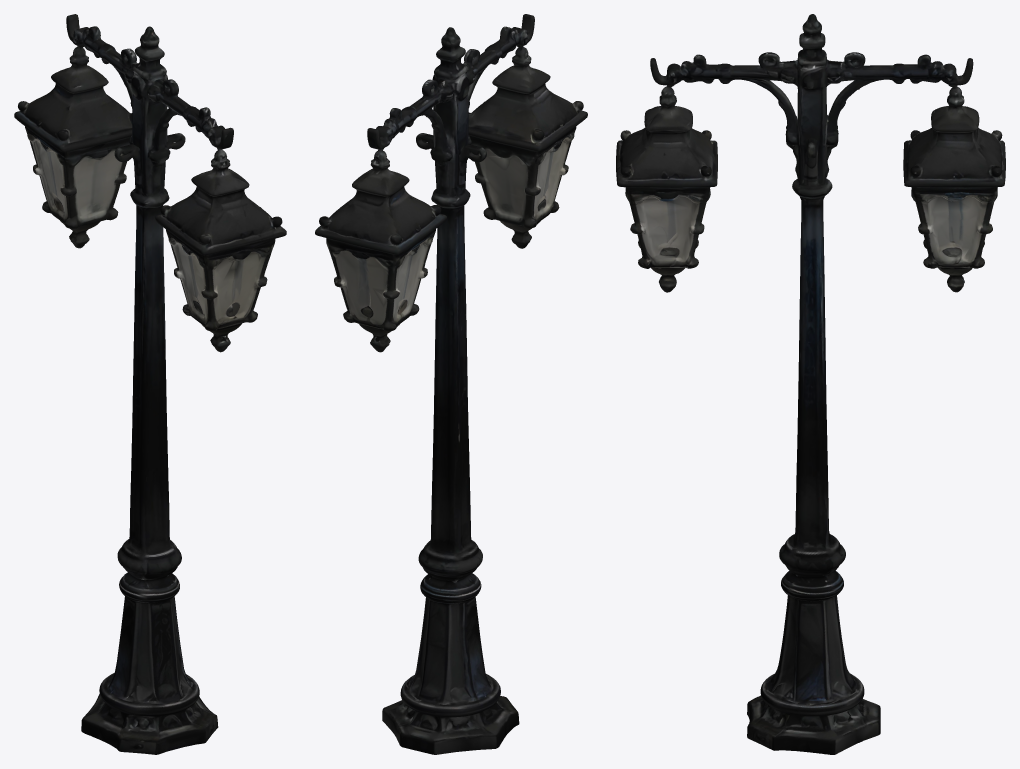
The model's file is plaza-lamp-post-double.glb.
3 renders of one model, left to right at view 1: azimuth 30°, elevation 25°; view 2: azimuth 150°, elevation 25°; view 3: azimuth 270°, elevation 25°, orthographic.
Visible parts, largest first — view 1: tripo_node_61c53c57-bad2-4a7e-bbf3-f8bc565f18fb; view 2: tripo_node_61c53c57-bad2-4a7e-bbf3-f8bc565f18fb; view 3: tripo_node_61c53c57-bad2-4a7e-bbf3-f8bc565f18fb.
Boxes of the visible parts, <box> form: tripo_node_61c53c57-bad2-4a7e-bbf3-f8bc565f18fb: <box>14,14,286,754</box>; tripo_node_61c53c57-bad2-4a7e-bbf3-f8bc565f18fb: <box>315,14,587,754</box>; tripo_node_61c53c57-bad2-4a7e-bbf3-f8bc565f18fb: <box>616,14,1005,754</box>.
Size of the model in its own units: 0.7757 by 4.5 by 2.23.
1 material, 1 textured.
